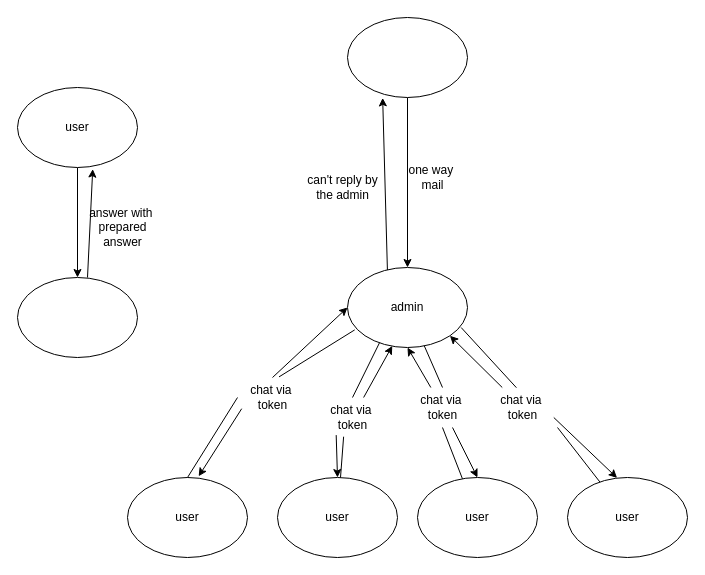
The diagram is 705 pixels wide and 575 high, and some of its shapes have lost their labels. Here are the shapes that lost their labels. From the top down, the box of each, then its label:
(346, 16, 468, 98): feedback
(16, 276, 138, 358): chatbot
